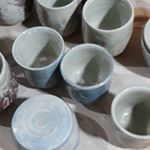cups: (61, 41, 117, 109), (10, 24, 66, 92), (79, 1, 137, 58), (108, 84, 150, 148)
